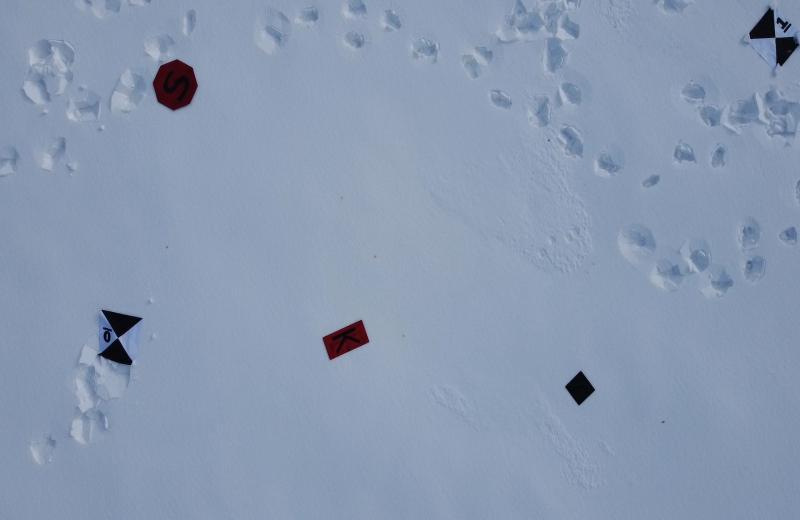Octagon: (151, 58, 199, 113)
Rectangle: (322, 319, 370, 361)
Square: (565, 372, 595, 406)
